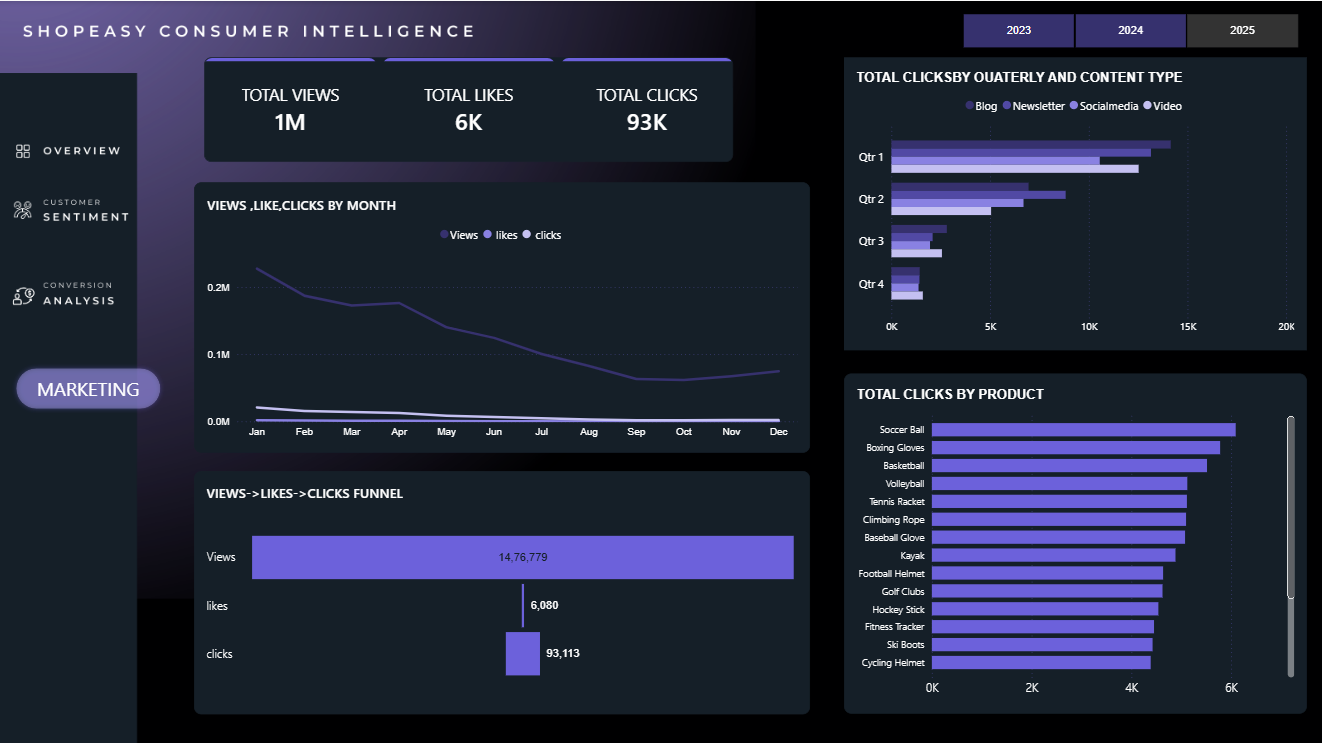

The page's visual inventory and layout, read from the dashboard file:
{"tool":"powerbi","page":{"name":"Marketing Performance","canvas":[1600,900],"ordinal":3},"visuals":[{"type":"shape","box":[235,566.7,743.3,293.3],"z":0},{"type":"cardVisual","fields":{"Data":["Sum(engagement_data_cleaned.Views)","Sum(engagement_data_cleaned.likes)","Sum(engagement_data_cleaned.clicks)"]},"box":[246.7,68.3,638.3,126.7],"z":1000},{"type":"lineChart","title":"VIEWS ,LIKE,CLICKS BY MONTH","fields":{"Y":["Sum(engagement_data_cleaned.Views)","Sum(engagement_data_cleaned.likes)","Sum(engagement_data_cleaned.clicks)"],"Category":["Calendar.MonthNameShort"]},"box":[235,218.3,743.3,326.7],"z":2000},{"type":"funnel","title":"VIEWS->LIKES->CLICKS FUNNEL","fields":{"Y":["Sum(engagement_data_cleaned.Views)","Sum(engagement_data_cleaned.likes)","Sum(engagement_data_cleaned.clicks)"]},"box":[235,566.7,743.3,293.3],"z":3000},{"type":"barChart","title":"TOTAL CLICKS BY PRODUCT","fields":{"Y":["Sum(engagement_data_cleaned.clicks)"],"Category":["products.ProductName"]},"box":[1020,450,558.3,410],"z":4000},{"type":"clusteredBarChart","title":"TOTAL CLICKSBY OUATERLY AND CONTENT TYPE ","fields":{"Category":["Calendar.Date.Variation.Date Hierarchy.Quarter"],"Y":["Sum(engagement_data_cleaned.clicks)"],"Series":["engagement_data_cleaned.ContentType"]},"box":[1020,68.3,558.3,353.3],"z":5000},{"type":"shape","box":[0,416.7,158.3,150],"z":6000},{"type":"shape","box":[0,421.7,215,90],"z":7000},{"type":"pageNavigator","box":[0,205,183.3,100],"z":8000},{"type":"pageNavigator","box":[0,305,183.3,100],"z":9000},{"type":"pageNavigator","box":[0,131.7,183.3,100],"z":10000},{"type":"slicer","fields":{"Values":["Calendar.Date.Variation.Date Hierarchy.Year"]},"box":[1142.6,13.1,442.6,44.3],"z":11000}]}

Visuals, with their boxes in screenshot pixels (x1, y1, x2, y2), scaled from the page's 1600x900 canvas onto the 1322x743 screenshot:
shape: BBox(194, 468, 808, 710)
cardVisual - Sum(engagement_data_cleaned.Views) x Sum(engagement_data_cleaned.likes): BBox(204, 56, 731, 161)
"VIEWS ,LIKE,CLICKS BY MONTH" lineChart: BBox(194, 180, 808, 450)
"VIEWS->LIKES->CLICKS FUNNEL" funnel: BBox(194, 468, 808, 710)
"TOTAL CLICKS BY PRODUCT" barChart: BBox(843, 372, 1304, 710)
"TOTAL CLICKSBY OUATERLY AND CONTENT TYPE " clusteredBarChart: BBox(843, 56, 1304, 348)
shape: BBox(0, 344, 131, 468)
shape: BBox(0, 348, 178, 422)
pageNavigator: BBox(0, 169, 151, 252)
pageNavigator: BBox(0, 252, 151, 334)
pageNavigator: BBox(0, 109, 151, 191)
slicer - Calendar.Date.Variation.Date Hierarchy.Year: BBox(944, 11, 1310, 47)
